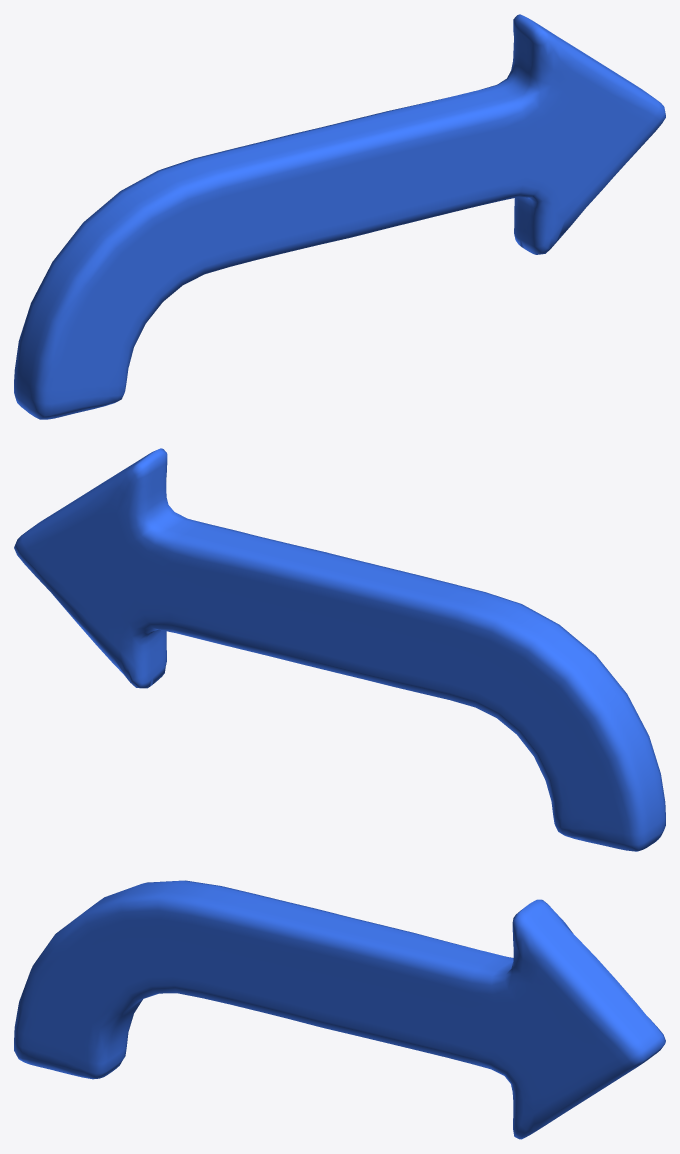
File: arrow 03.fbx
3 views of the same model, one above another, from view 1: azimuth 30°, elevation 25°; view 2: azimuth 150°, elevation 25°; view 3: azimuth 330°, elevation 25° (orthographic).
Visible parts, largest first — view 1: arrow_3; view 2: arrow_3; view 3: arrow_3.
Boxes of the visible parts, bbox=[...] form: arrow_3: bbox=[14, 14, 665, 419]; arrow_3: bbox=[14, 448, 665, 851]; arrow_3: bbox=[14, 880, 665, 1139].
Bounding box in the file's own units: 515 × 212 × 43.02.
